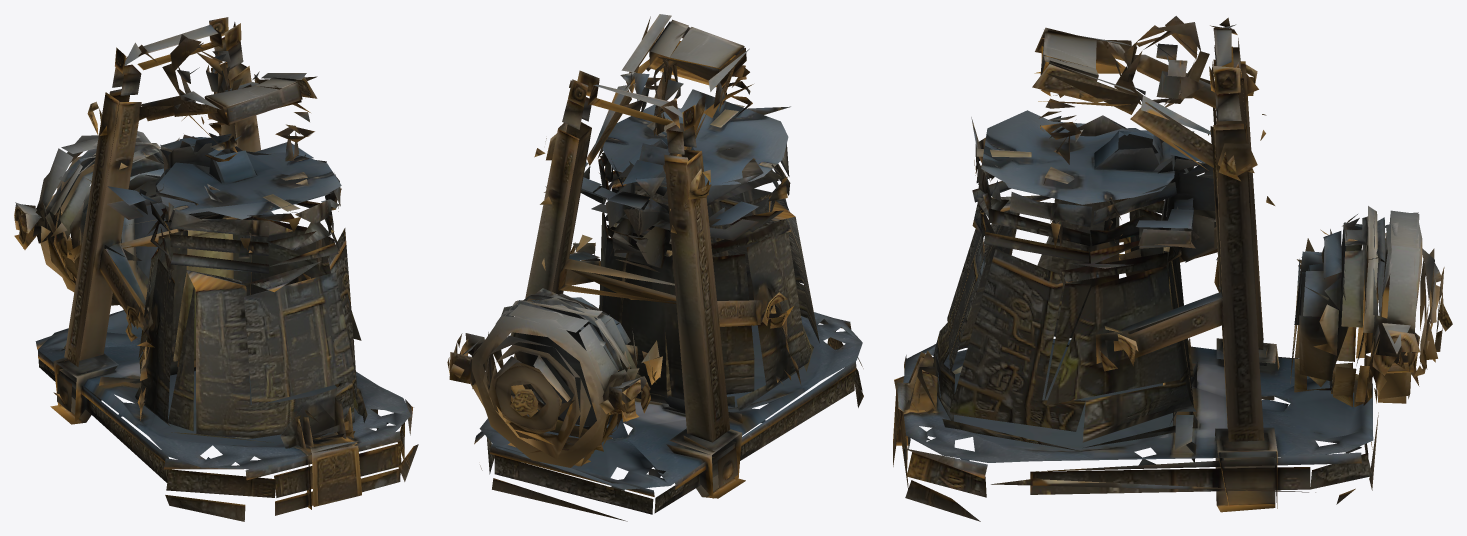
The model's file is ch2_hydraulic_counterweight_machine_LOD3.glb.
3 renders of one model, left to right at view 1: azimuth 30°, elevation 25°; view 2: azimuth 150°, elevation 25°; view 3: azimuth 270°, elevation 25°, orthographic. The views are drawn at different scales.
Parts seen in each view (by area): view 1: tripo_node_0e10ad17-c052-4b98-85d4-967bdcf32665; view 2: tripo_node_0e10ad17-c052-4b98-85d4-967bdcf32665; view 3: tripo_node_0e10ad17-c052-4b98-85d4-967bdcf32665.
Part boxes in pixels (left/top/right/bottom): tripo_node_0e10ad17-c052-4b98-85d4-967bdcf32665: left=14, top=17, right=418, bottom=521; tripo_node_0e10ad17-c052-4b98-85d4-967bdcf32665: left=447, top=14, right=863, bottom=521; tripo_node_0e10ad17-c052-4b98-85d4-967bdcf32665: left=893, top=16, right=1452, bottom=521.
Size of the model in its own units: 0.5929 by 0.849 by 1.
1 material, 1 textured.
